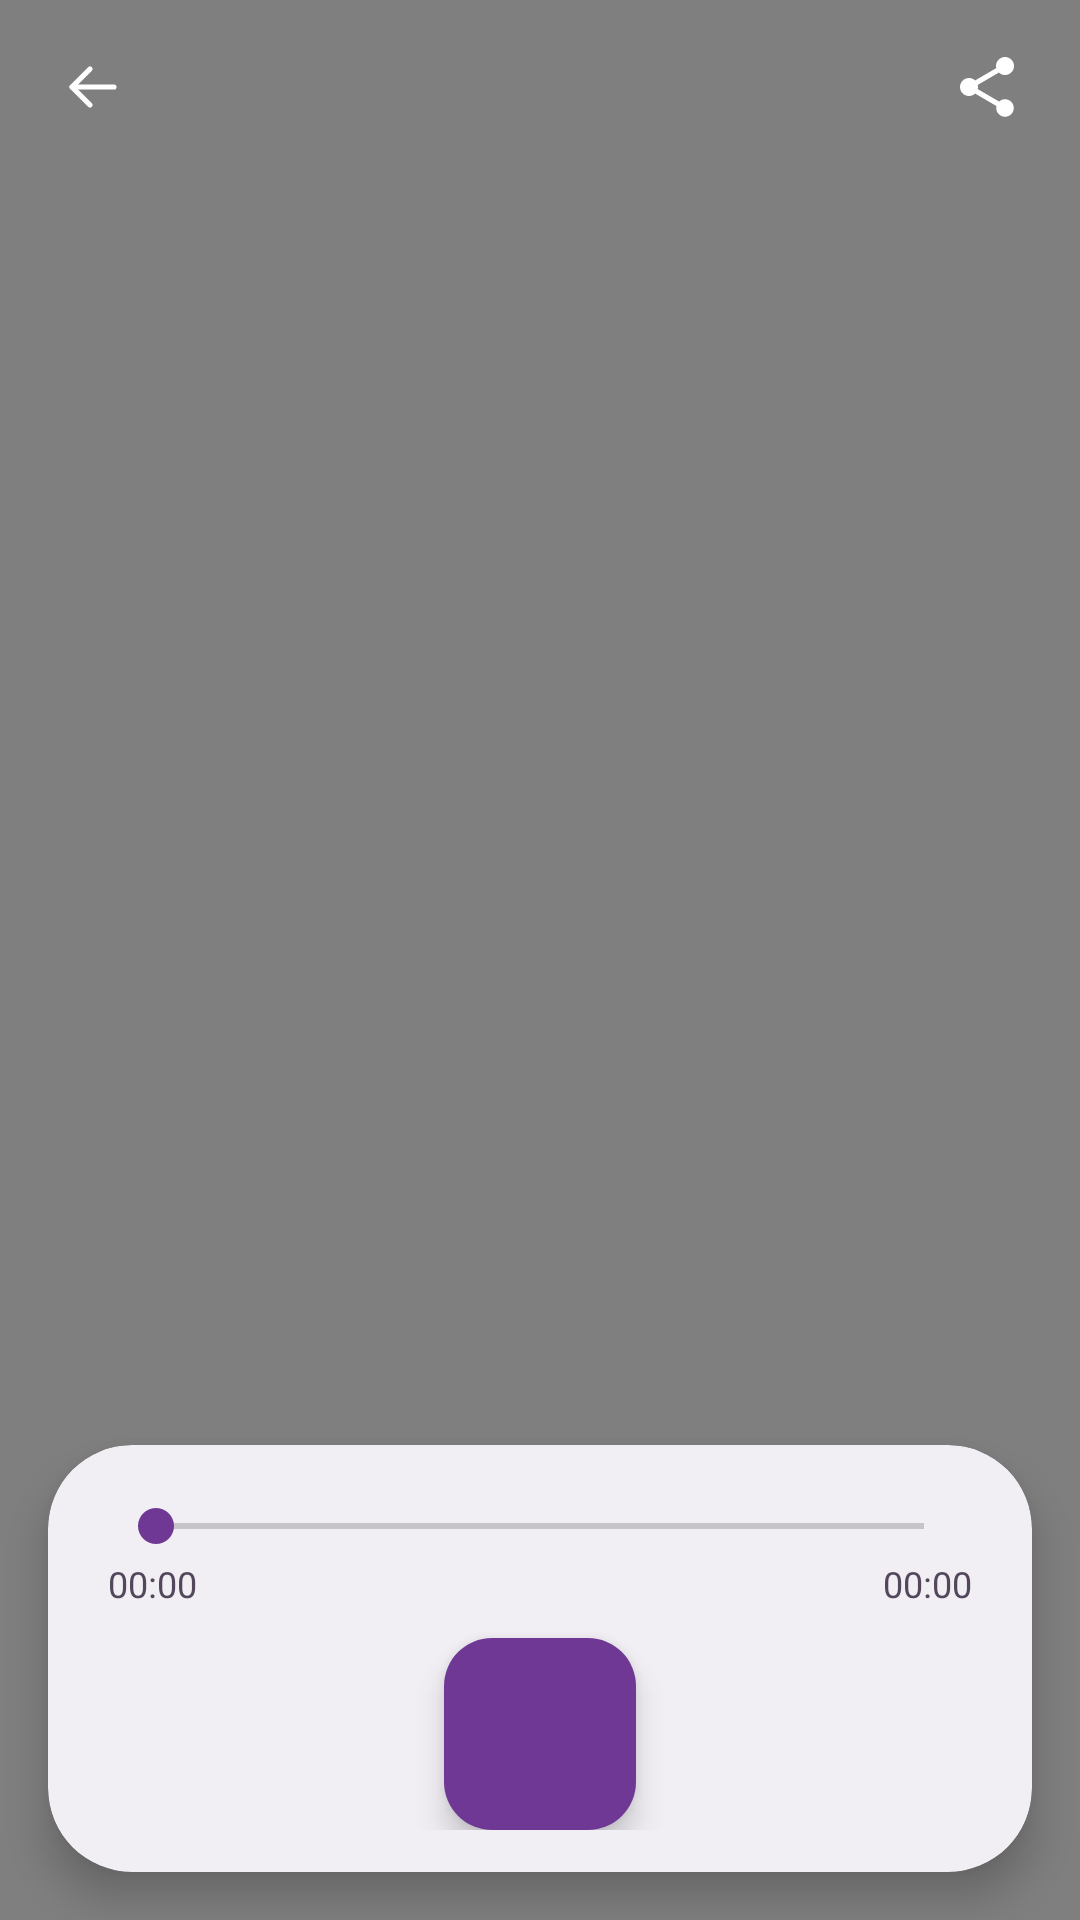

Locate icon controls on the screen. Image size 1080w x 1920h, boxes as {"x1": x1, "y1": y1, "x2": x2, "y2": y2}.
Назад: {"x1": 69, "y1": 66, "x2": 117, "y2": 108}
Поделиться: {"x1": 960, "y1": 57, "x2": 1014, "y2": 117}
